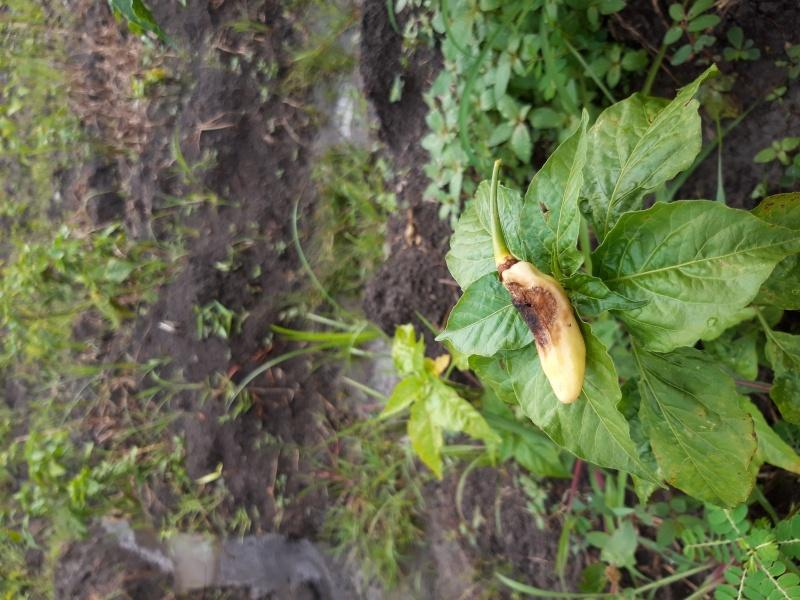antraknosa: (500, 260, 588, 406)
